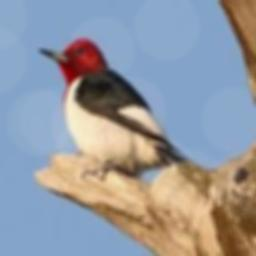Woodpecker: (38, 38, 187, 171)
